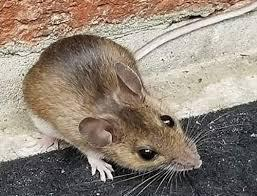rat: (21, 34, 202, 183)
